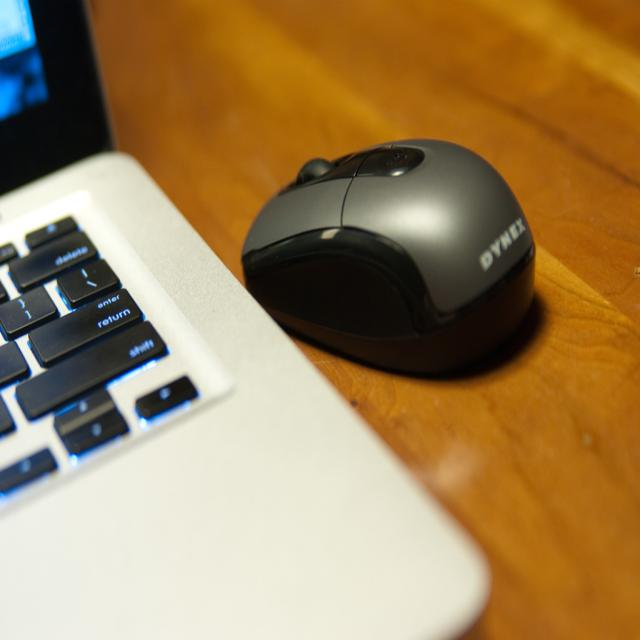Computer-mouse: (239, 133, 535, 383)
